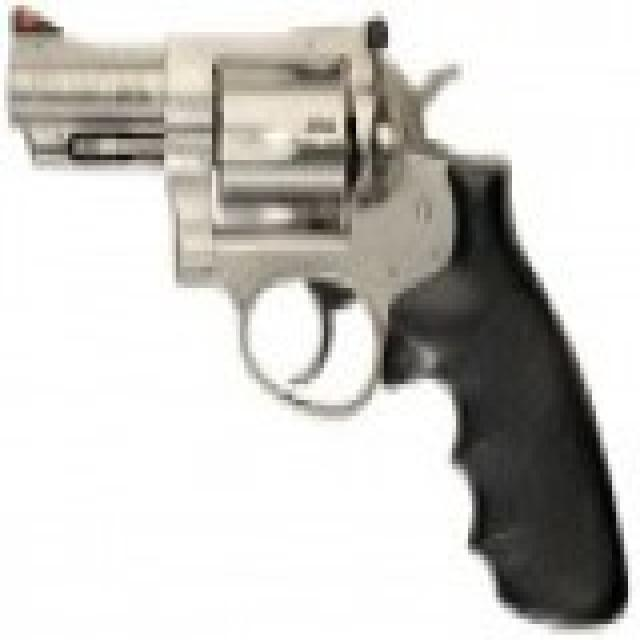gun: (4, 0, 616, 619)
